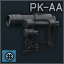BelOMO PK-AA reflex sight: (0, 0, 64, 64)
